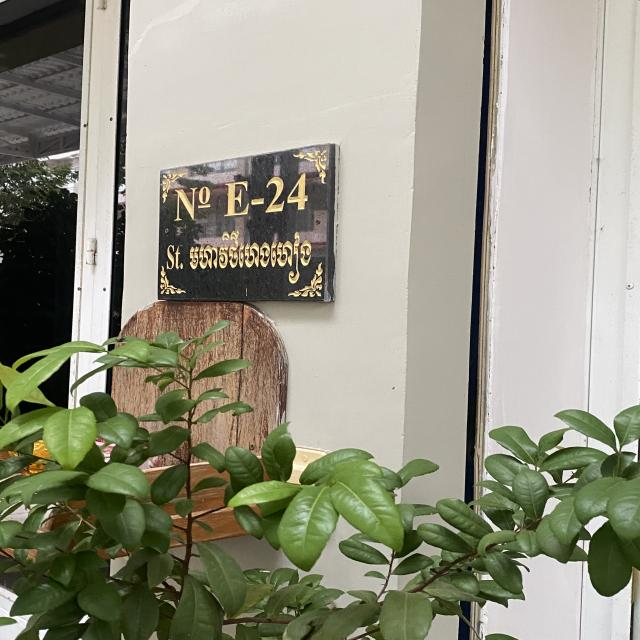Yolov11kh: (186, 224, 321, 288)
